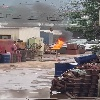fire: (51, 38, 64, 49)
